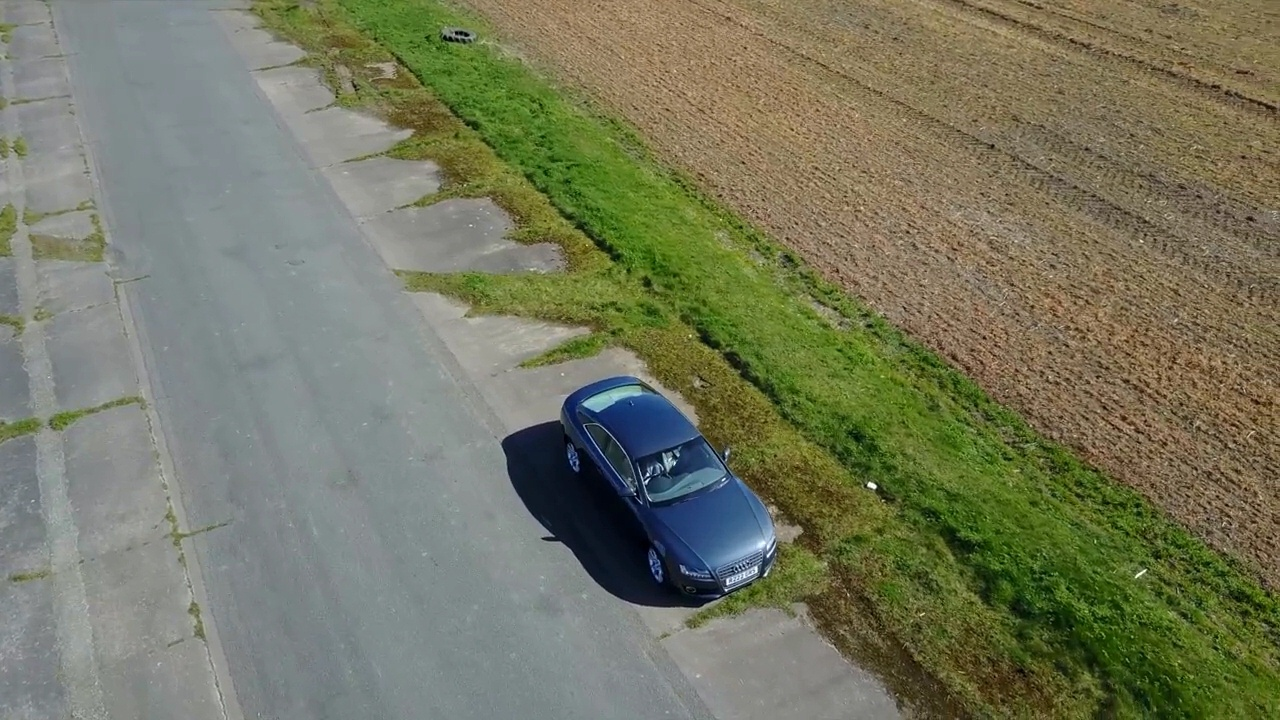araba: (553, 373, 780, 599)
